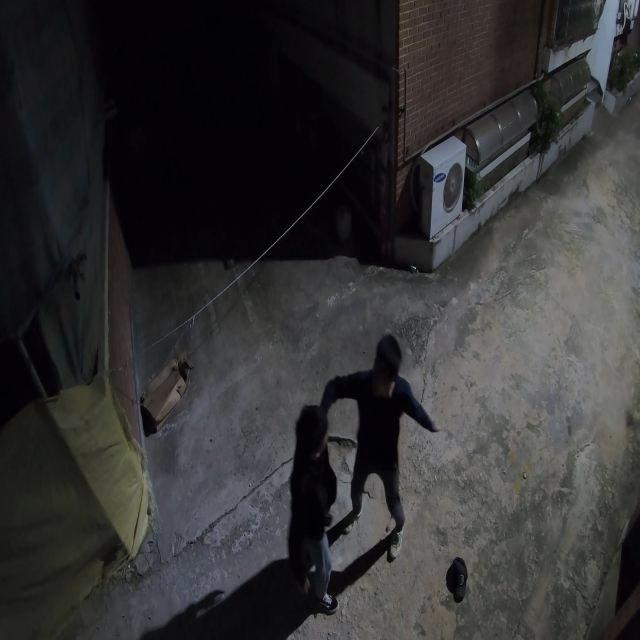fight: (283, 335, 443, 612)
